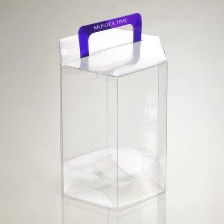plastic_box: (51, 6, 175, 214)
